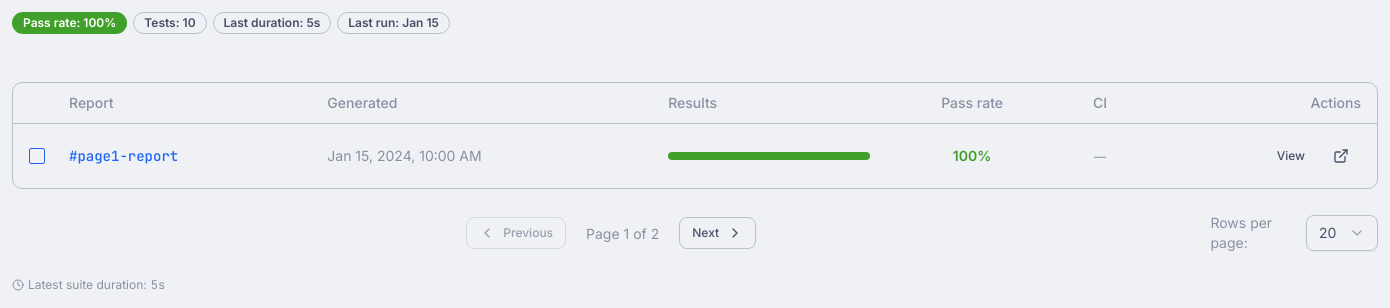
Test: OverviewTab › pages forward and back through the report history
The width and height of the screenshot is (1390, 308).
Check: the link "#page1-report" is shown, box [69,146,178,166]
Check: the text "Page 1 of 2" is shown, box [586,224,659,242]
Click the button "Next" at (718, 232), box [679,216,756,248]
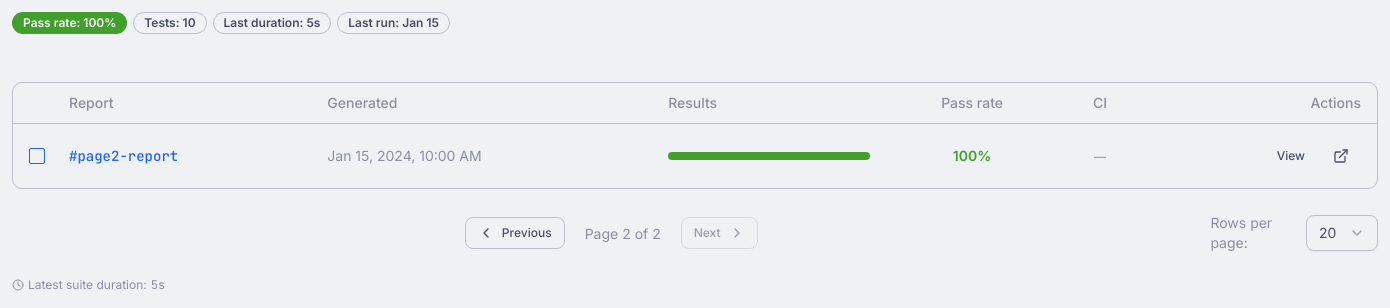
Check: the link "#page2-report" is shown, box [69,146,178,166]
Check: the text "Page 2 of 2" is shown, box [585,224,661,242]
Check: the button "Next" is disabled, box [681,216,758,248]
Click the button "Previous" at (515, 232), box [465,216,565,248]
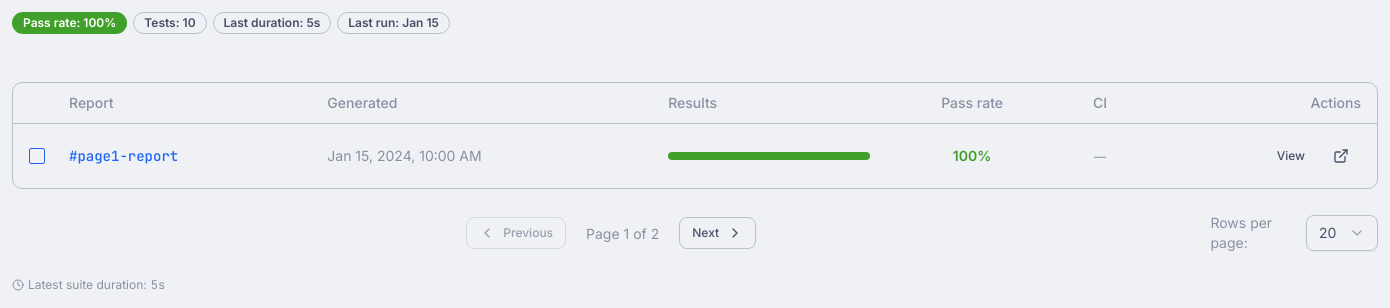
Check: the link "#page1-report" is shown, box [69,146,178,166]
